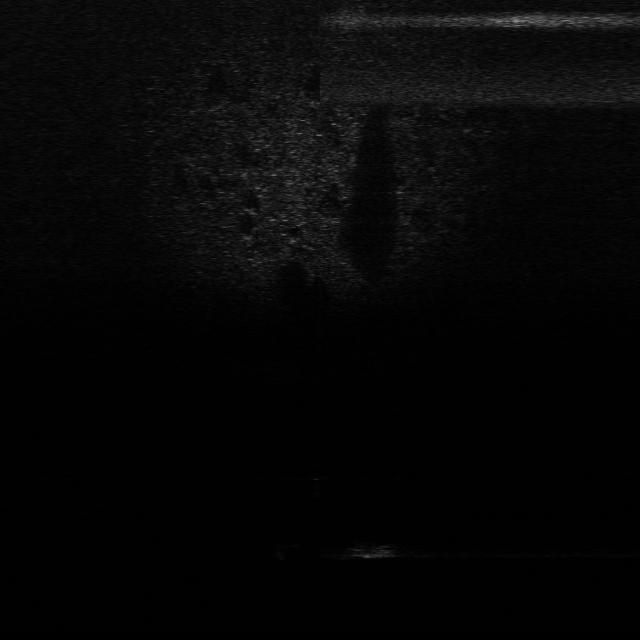ball: (302, 462, 337, 483)
metal bucket: (338, 539, 406, 565)
tyre: (267, 533, 302, 565)
